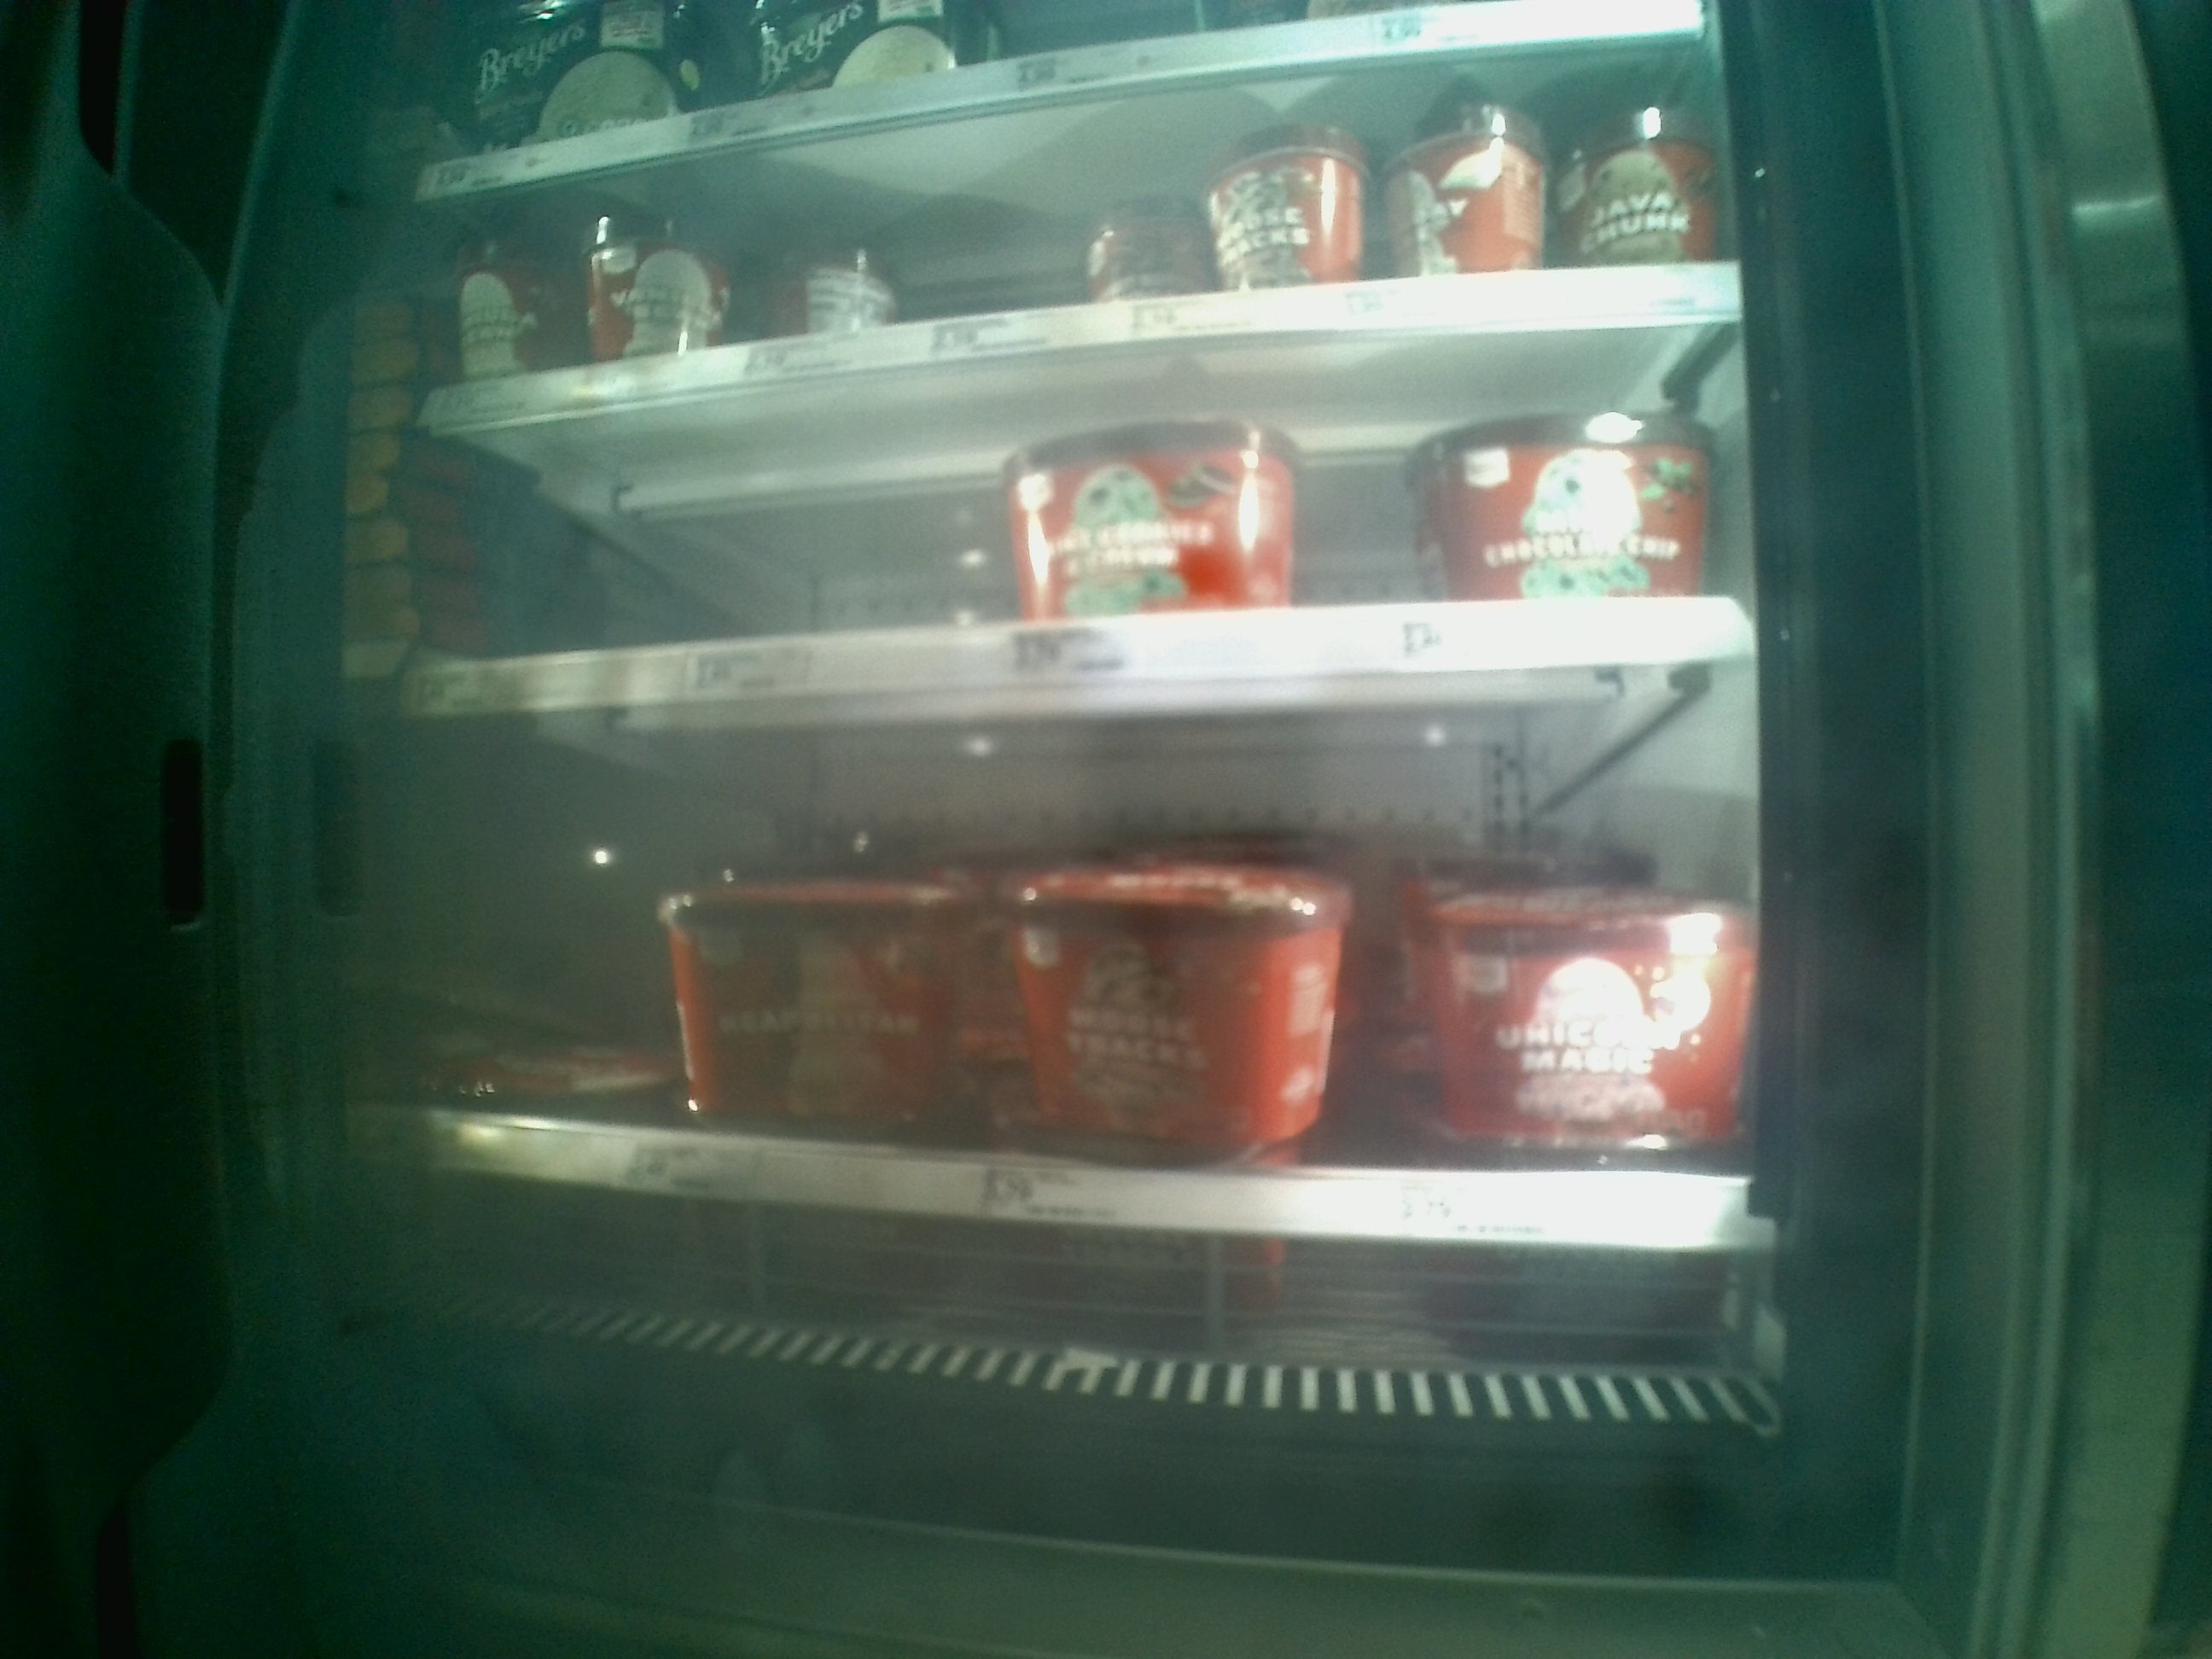shelf: (406, 667, 1761, 1314), (409, 322, 1749, 723)
